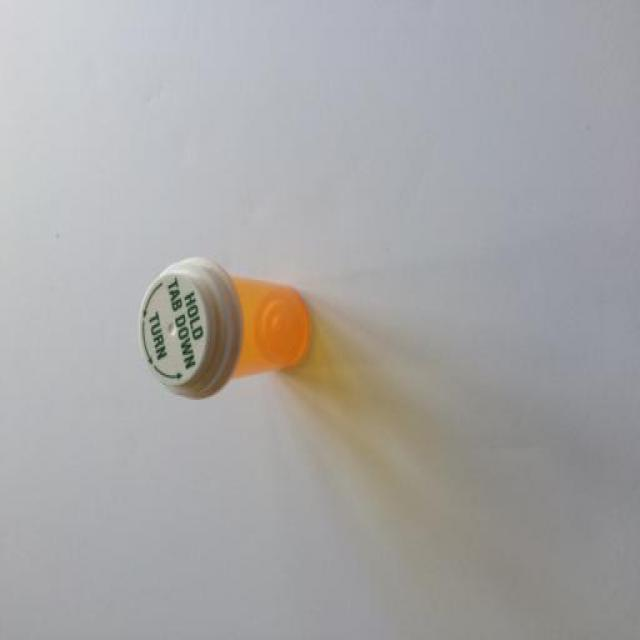Waste: (139, 258, 312, 398)
